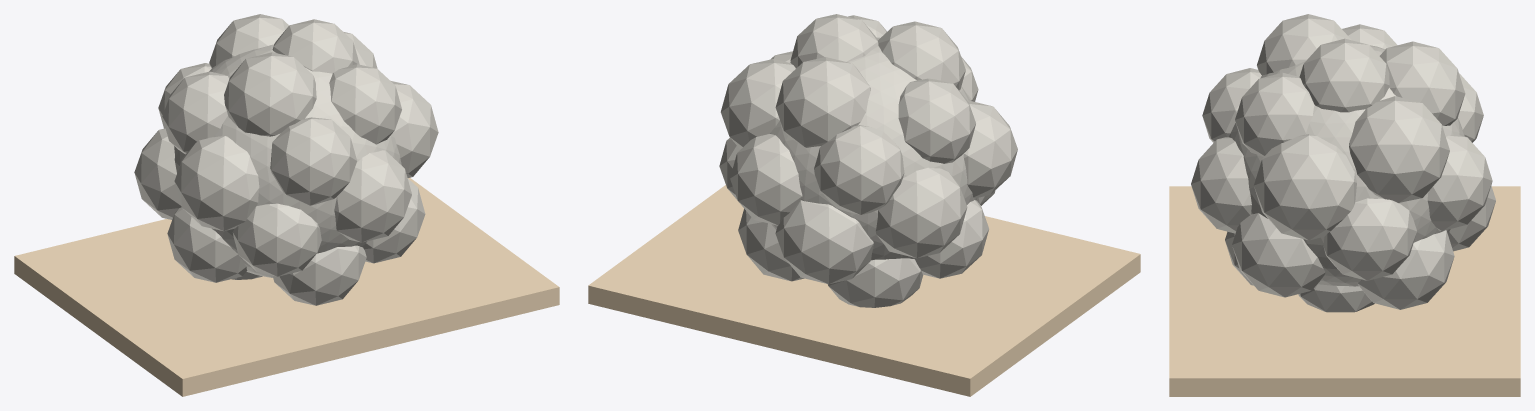
The model's file is item_wool.glb.
3 views of the same model, side by side, from view 1: azimuth 30°, elevation 25°; view 2: azimuth 150°, elevation 25°; view 3: azimuth 270°, elevation 25° (orthographic). The views are drawn at different scales.
Visible parts, largest first — view 1: Mat, Core, Tuft_9, Tuft_1, Tuft_6, Tuft_11, Tuft_14, Tuft_3, Tuft_4, Tuft_17, Tuft_19, Tuft_0 (+5 smaller); view 2: Mat, Core, Tuft_2, Tuft_7, Tuft_12, Tuft_15, Tuft_4, Tuft_10, Tuft_5, Tuft_1, Tuft_9, Tuft_20 (+4 smaller); view 3: Mat, Tuft_8, Tuft_5, Tuft_13, Core, Tuft_16, Tuft_0, Tuft_3, Tuft_2, Tuft_11, Tuft_10, Tuft_18 (+6 smaller).
Part boxes in pixels (x1,y1,x2,y2): Mat: (14, 178, 559, 396); Core: (174, 44, 401, 277); Tuft_9: (174, 135, 259, 231); Tuft_1: (224, 52, 316, 136); Tuft_6: (270, 117, 356, 205); Tuft_11: (334, 150, 411, 242); Tuft_14: (232, 203, 321, 276); Tuft_3: (329, 64, 401, 144); Tuft_4: (162, 71, 229, 154); Tuft_17: (167, 207, 247, 282); Tuft_19: (273, 245, 366, 305); Tuft_0: (272, 19, 359, 73); Mat: (588, 185, 1140, 396); Core: (770, 37, 976, 260); Tuft_2: (775, 57, 870, 147); Tuft_7: (814, 125, 904, 214); Tuft_12: (875, 167, 967, 258); Tuft_15: (775, 200, 873, 284); Tuft_4: (898, 78, 975, 163); Tuft_10: (730, 134, 802, 225); Tuft_5: (720, 59, 795, 149); Tuft_1: (878, 21, 965, 90); Tuft_9: (963, 101, 1017, 198); Tuft_20: (827, 258, 923, 307); Mat: (1169, 186, 1520, 396); Tuft_8: (1254, 134, 1356, 240); Tuft_5: (1349, 96, 1449, 202); Tuft_13: (1323, 198, 1416, 280); Core: (1229, 45, 1464, 286); Tuft_16: (1232, 213, 1325, 297); Tuft_0: (1299, 38, 1389, 112); Tuft_3: (1235, 72, 1314, 157); Tuft_2: (1379, 41, 1465, 125); Tuft_11: (1191, 137, 1251, 233); Tuft_10: (1427, 134, 1492, 230); Tuft_18: (1357, 230, 1454, 309).
Size of the model in its own units: 1.1 by 0.733 by 0.85.
